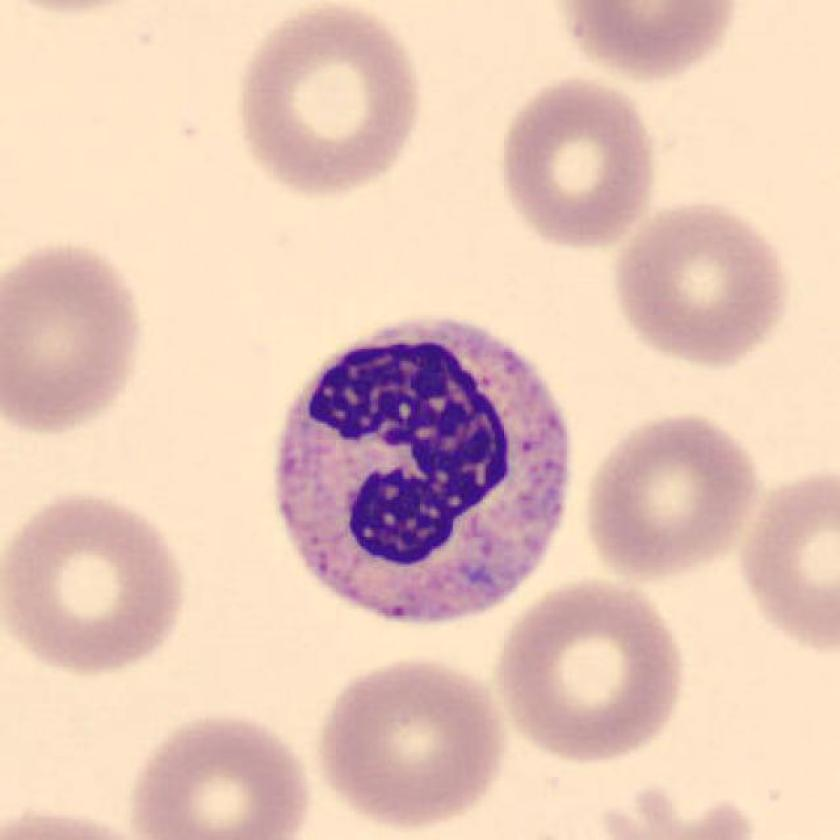neutrophil: (277, 323, 571, 621)
